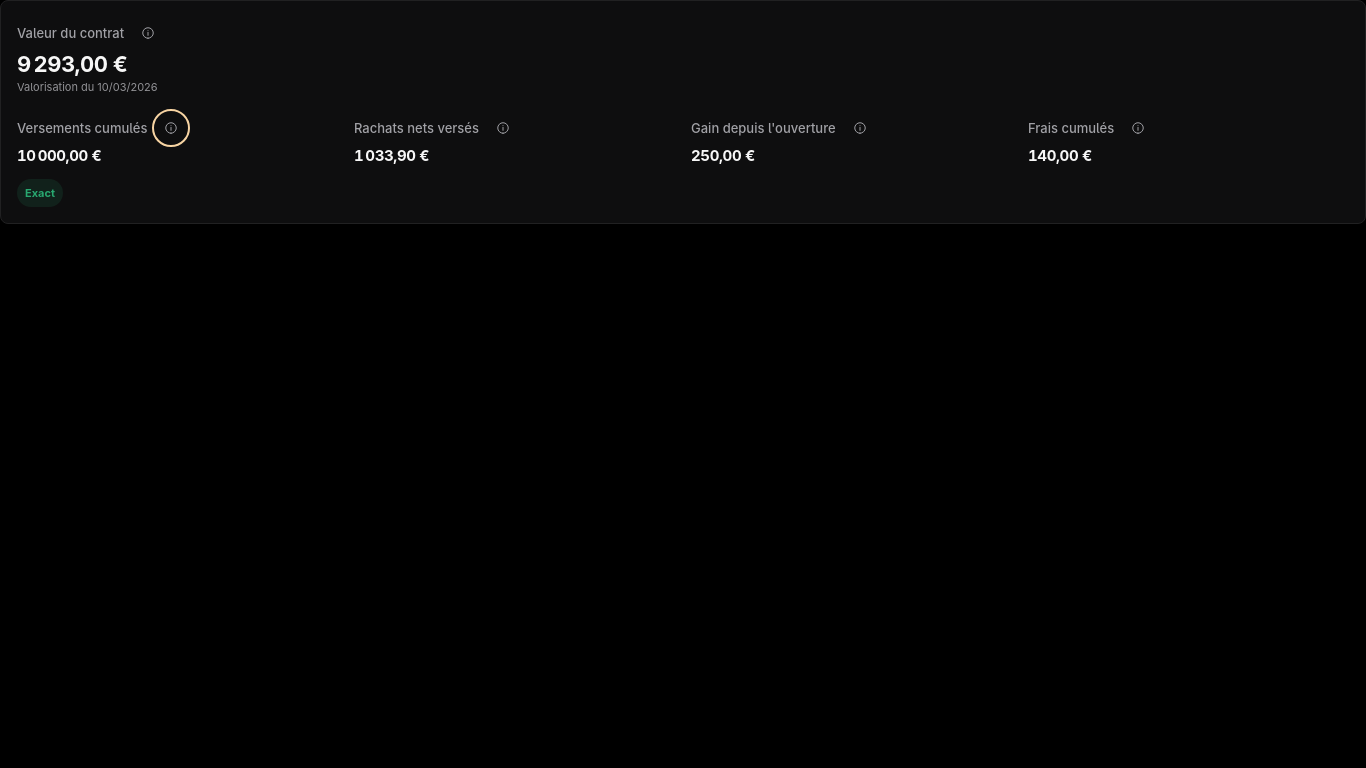
Test: LifeInsuranceOverview › opens sourced explanations and closes by Escape, restoring focus
The image size is (1366, 768).
Click the button named "Expliquer : Versements cumulés".
click(171, 128)  # box top-left (155, 112), bottom-right (187, 144)
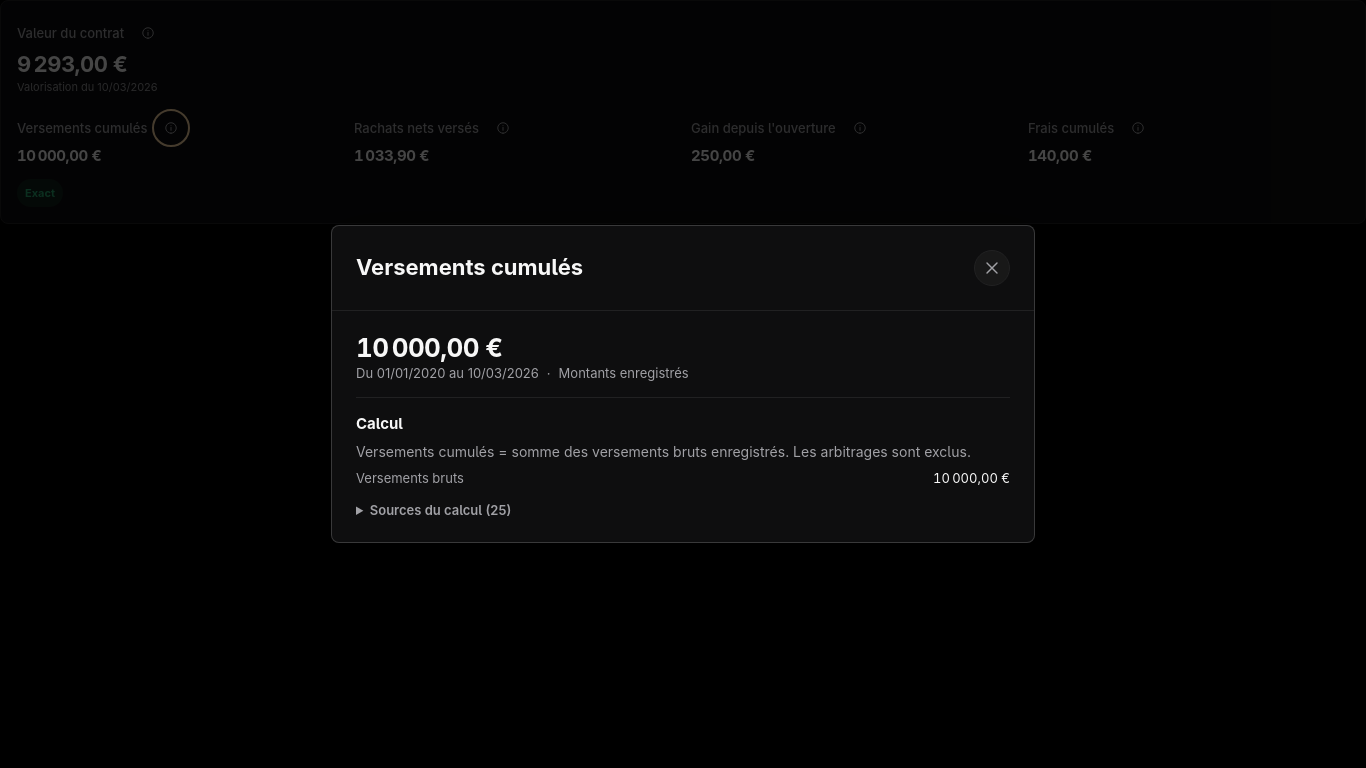
Press Escape in the dialog "Versements cumulés", box top-left (331, 225), bottom-right (1035, 543)
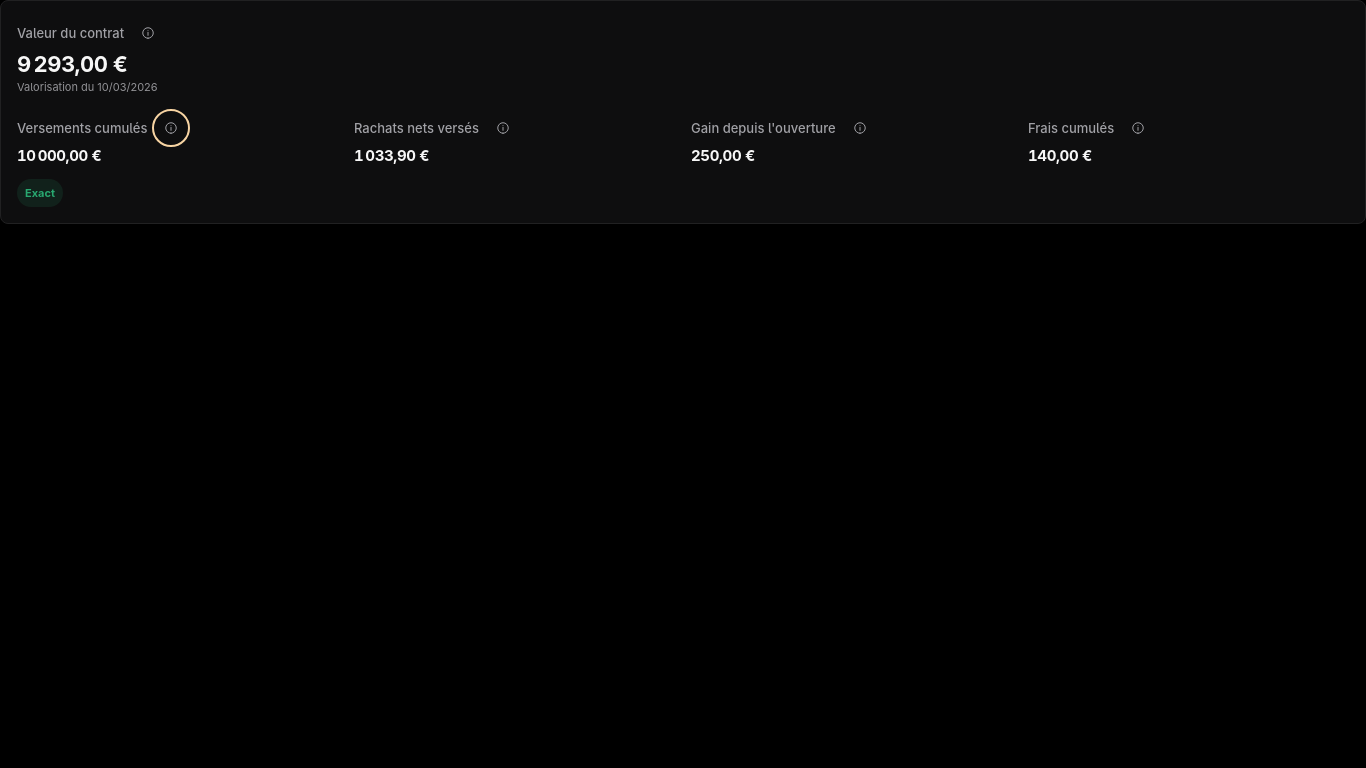
Now the dialog is gone
Click the button named "Expliquer : Gain depuis l'ouverture".
click(860, 128)  # box top-left (844, 112), bottom-right (876, 144)
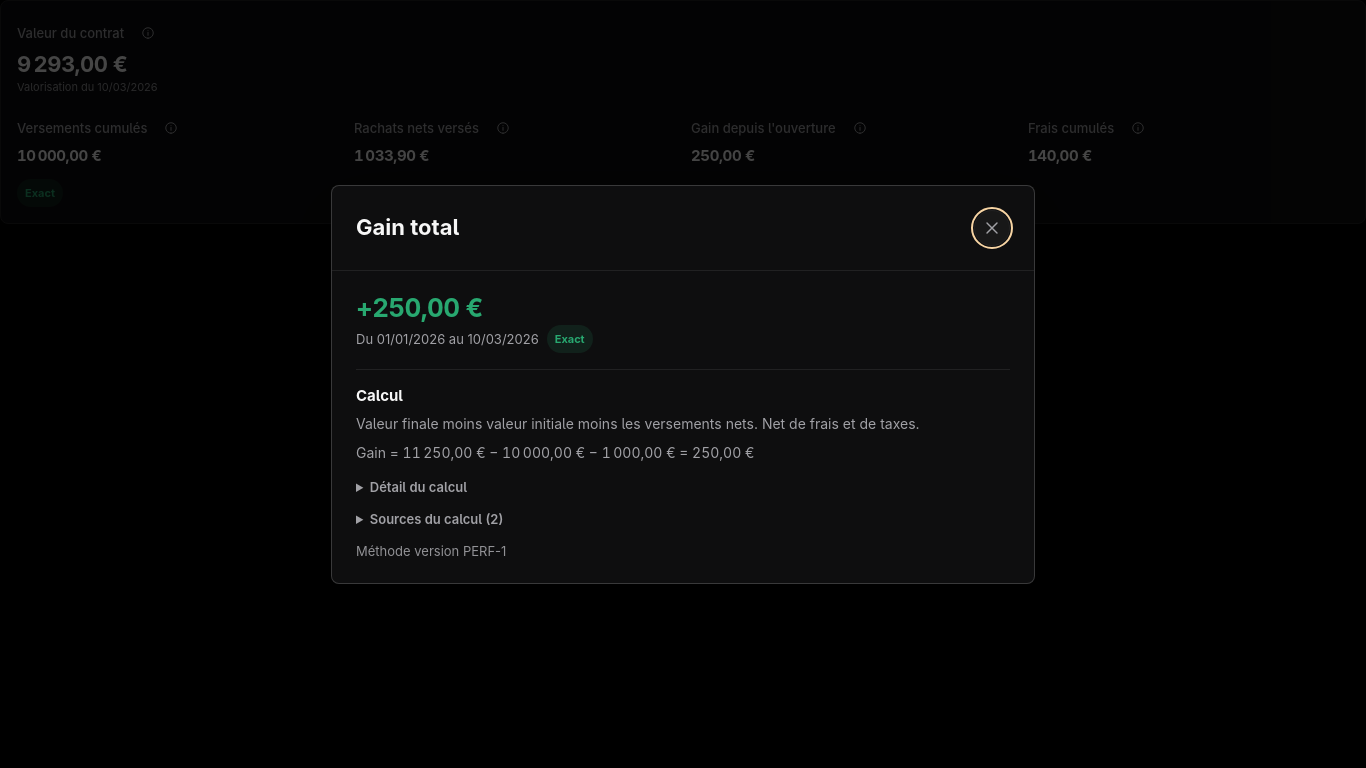
Now the text with test id "formula" shows "250,00", box top-left (356, 444), bottom-right (754, 460)
